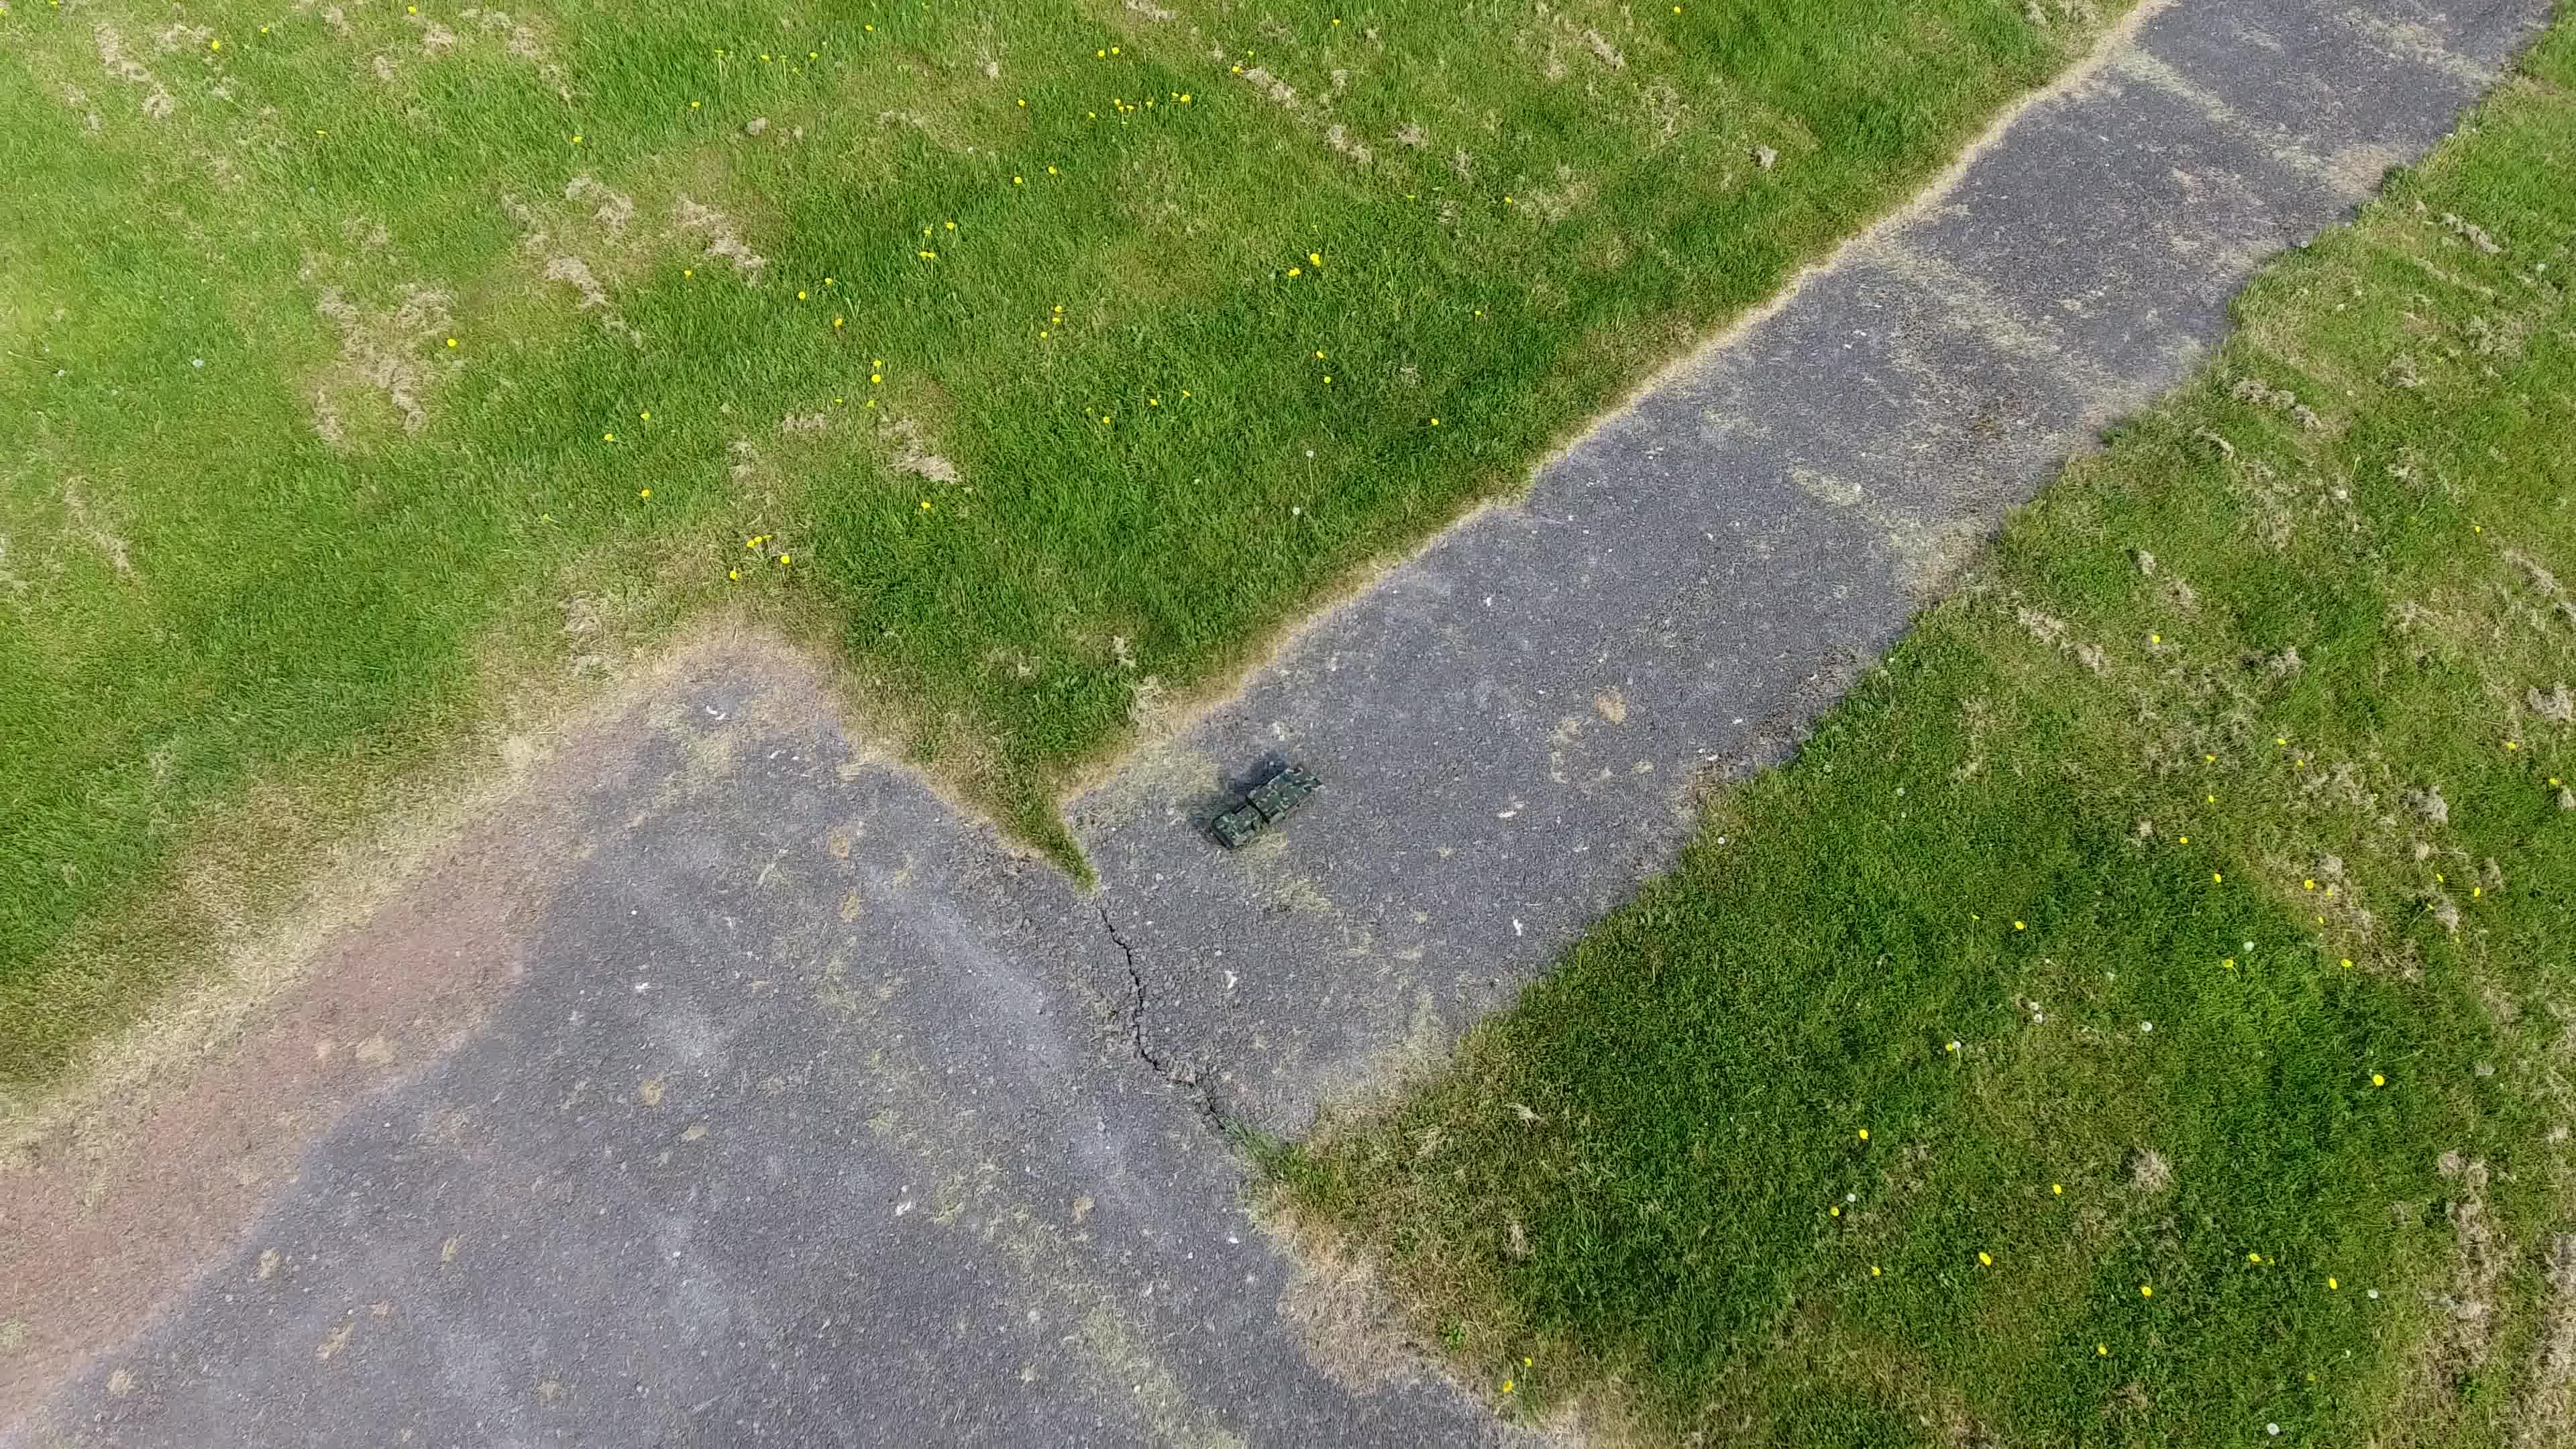transporter9: (1207, 755, 1327, 855)
